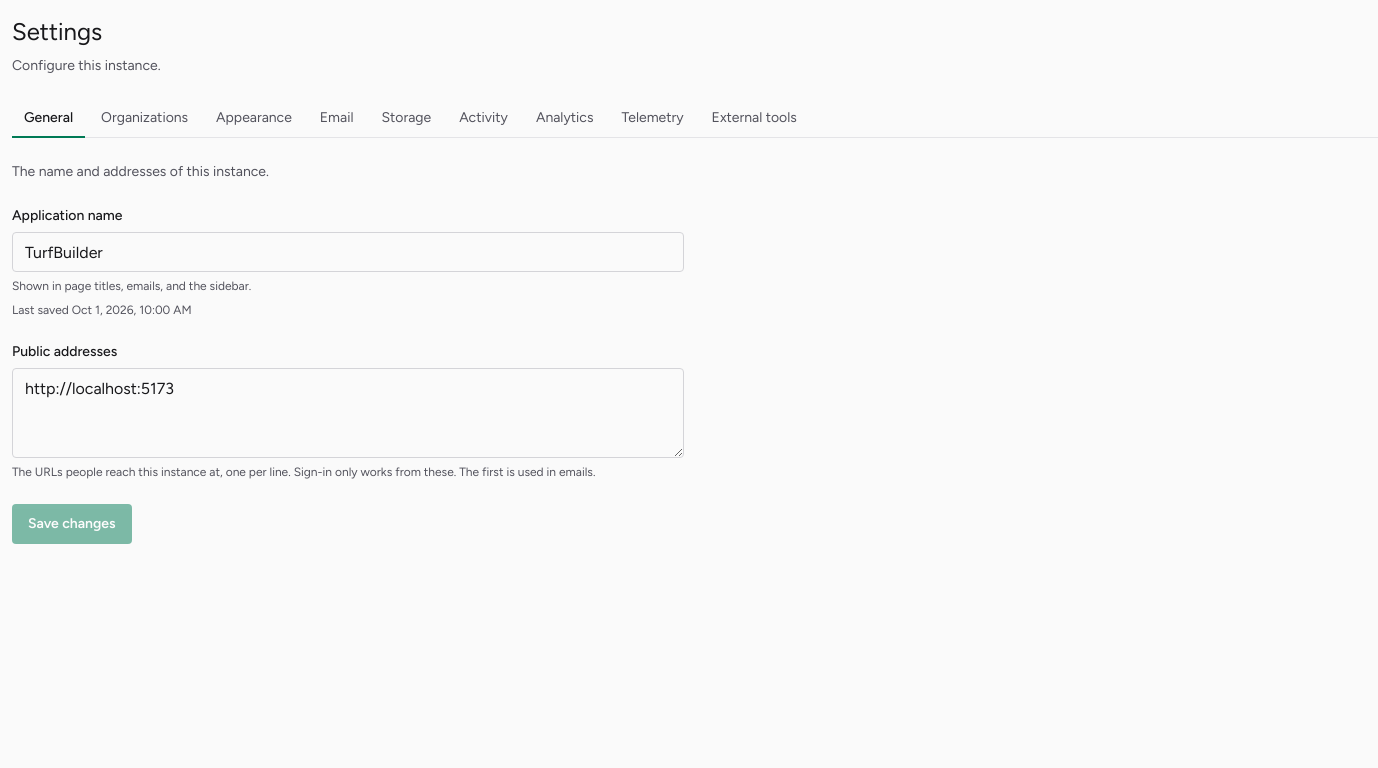
Test: InfraSettingsPage › discards edits
Type "Changed" into the field labelled "Application name" at (348, 252), box [12,232,684,272]
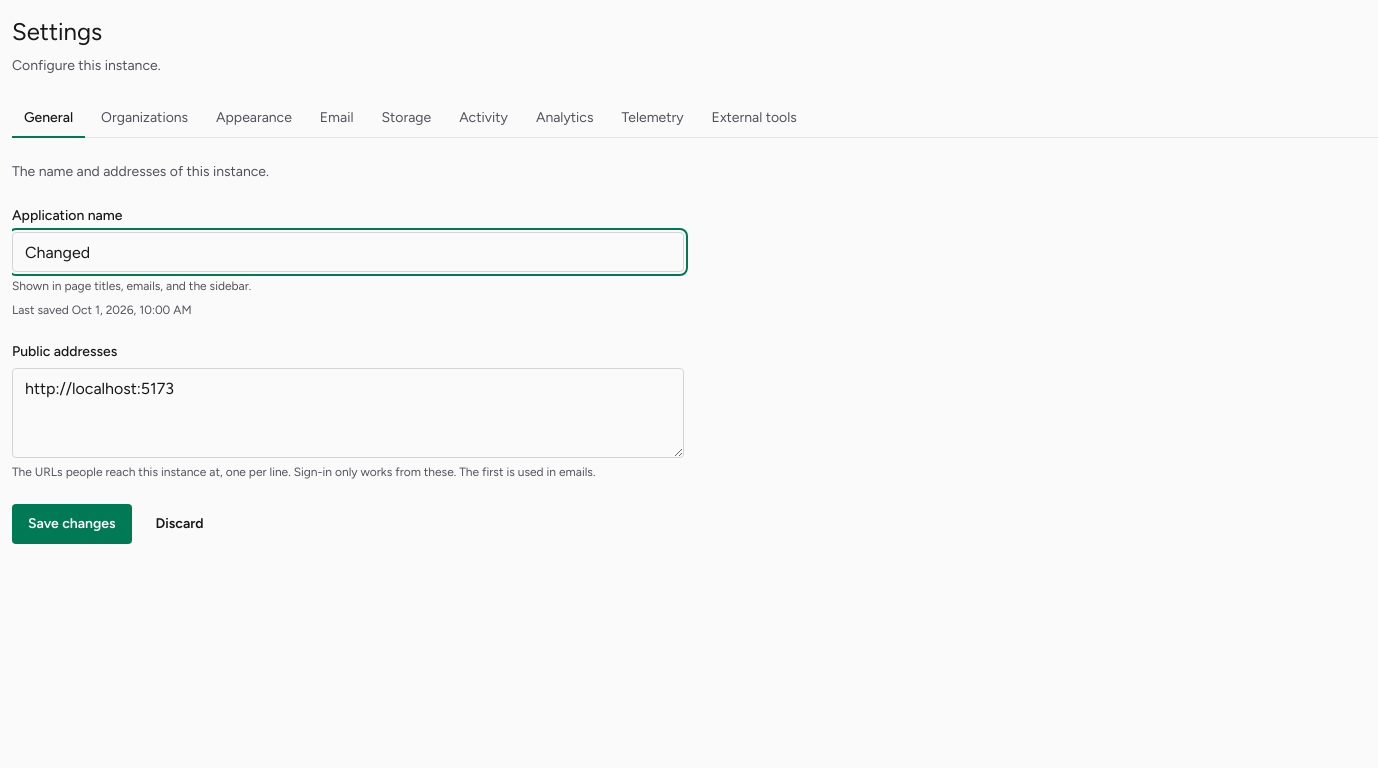
Click the button "Discard" at (180, 524), box [140,504,220,544]
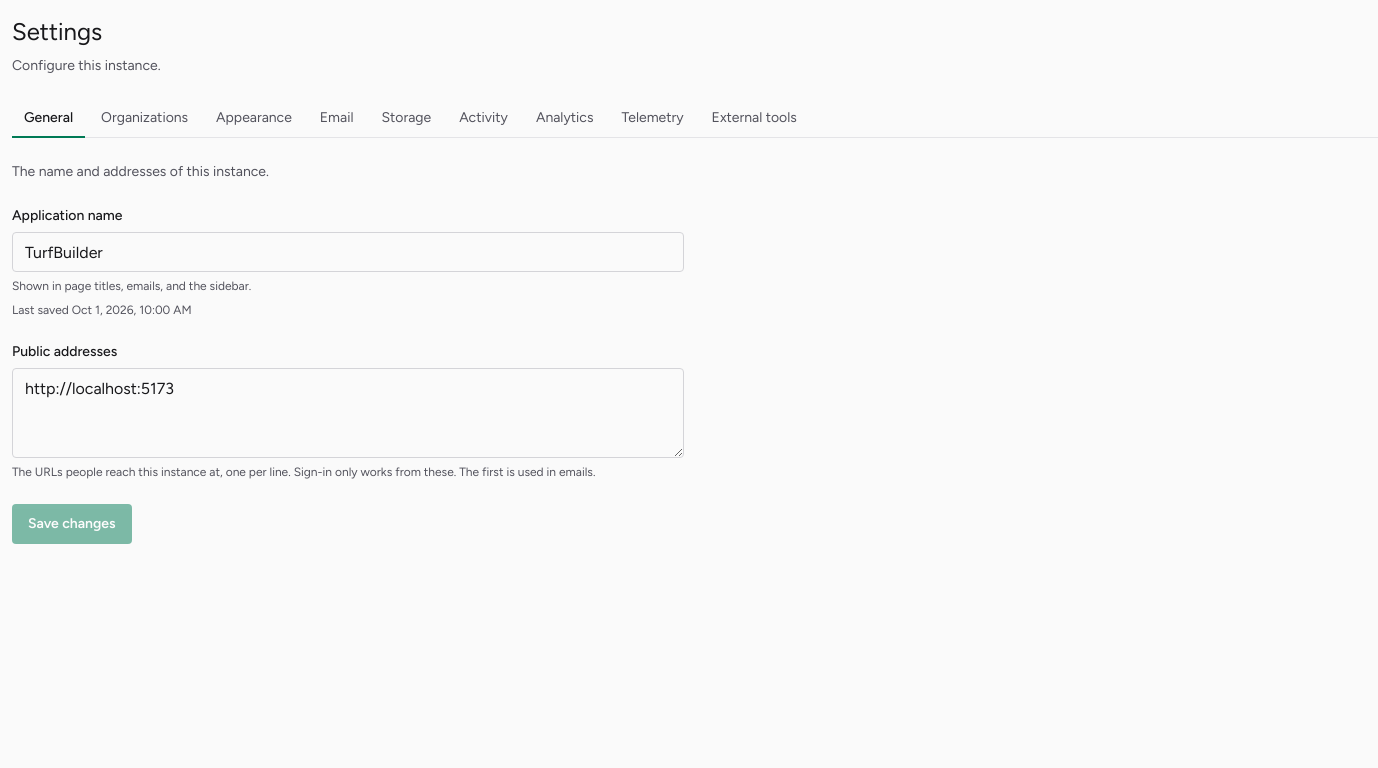
Expected: the field labelled "Application name" holds "TurfBuilder", [12,232,684,272]
